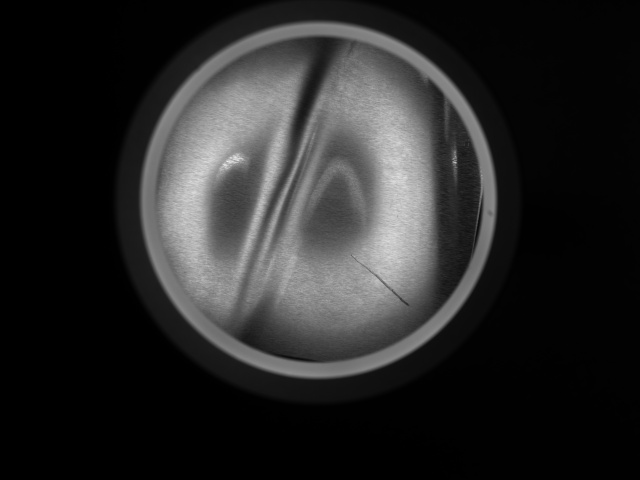ca_shang: (349, 252, 415, 308)
zhe_zhou: (206, 57, 428, 337)
